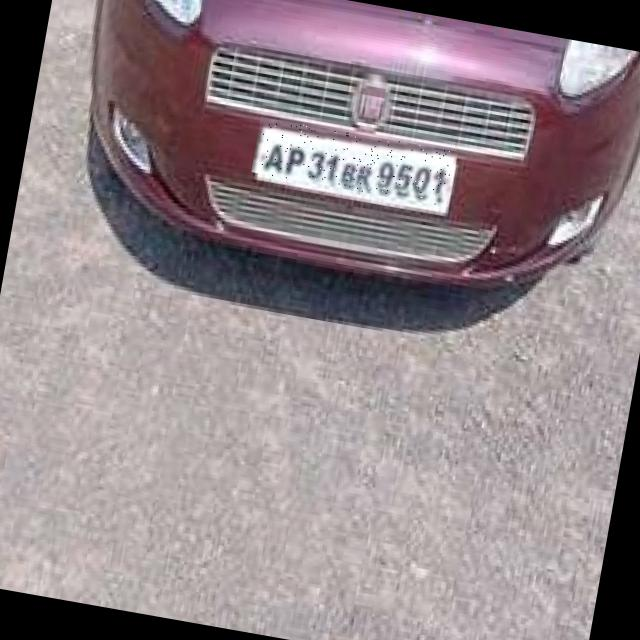Plate: (252, 118, 459, 208)
